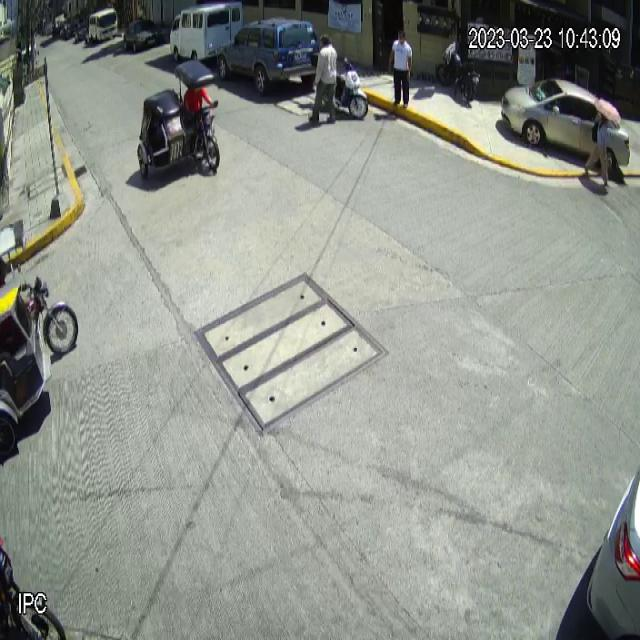Car: (501, 78, 630, 171), (216, 16, 323, 96)
Motorcycle: (312, 54, 368, 120)
Tricycle: (135, 60, 222, 179)
Van: (169, 0, 242, 69)
